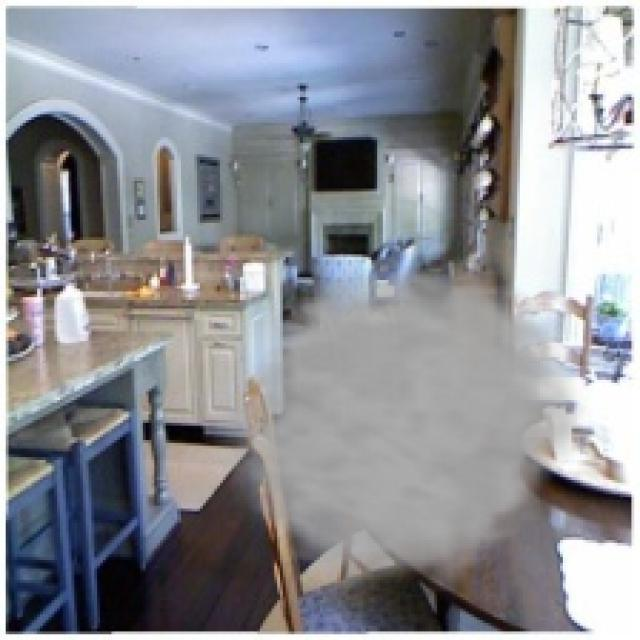Smoke: (206, 243, 594, 592)
